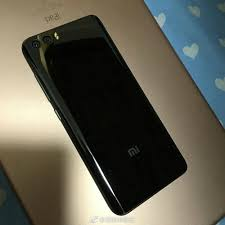mi: (15, 14, 189, 216)
